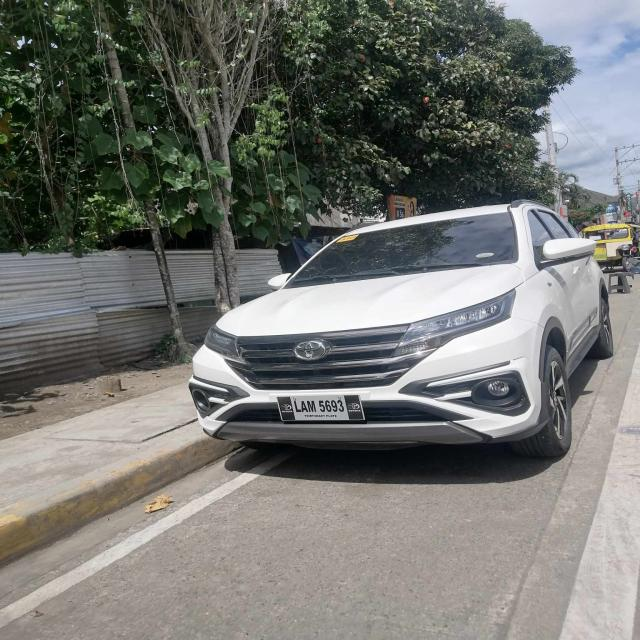license-plate: (276, 394, 366, 422)
